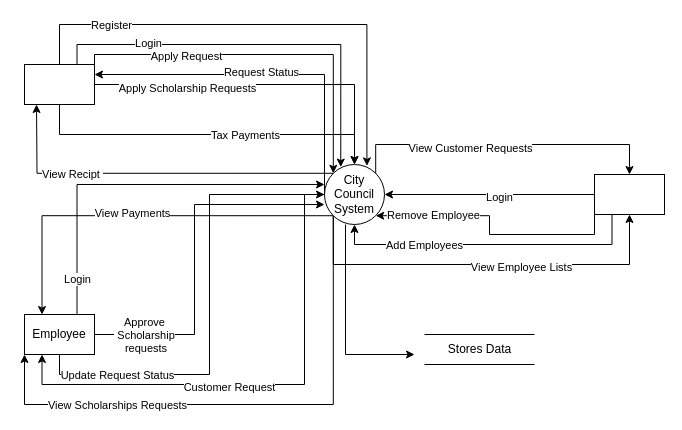
Image size: 682x430. Some labels were removed from this diagram. Here are the shapes that lost their labels. From the top down, the centre of each, then its label:
[59,84]: Customer
[629,194]: Admin
